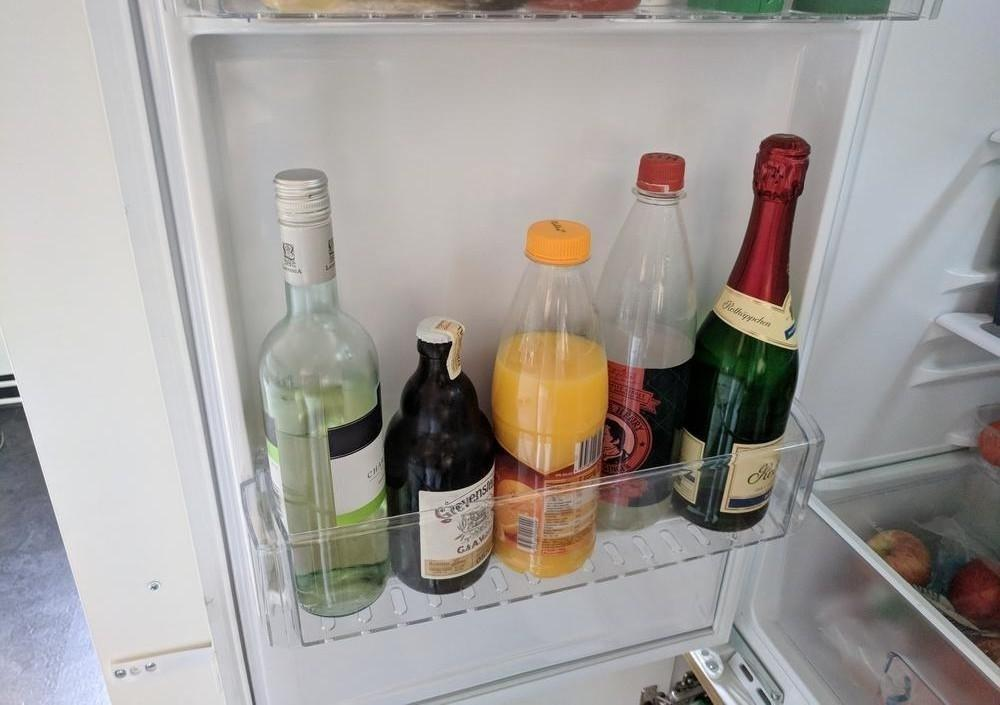bottle-glass: (257, 165, 393, 620), (672, 132, 812, 531), (384, 318, 497, 597)
bottle-plastic: (486, 214, 616, 584), (603, 147, 699, 530)
